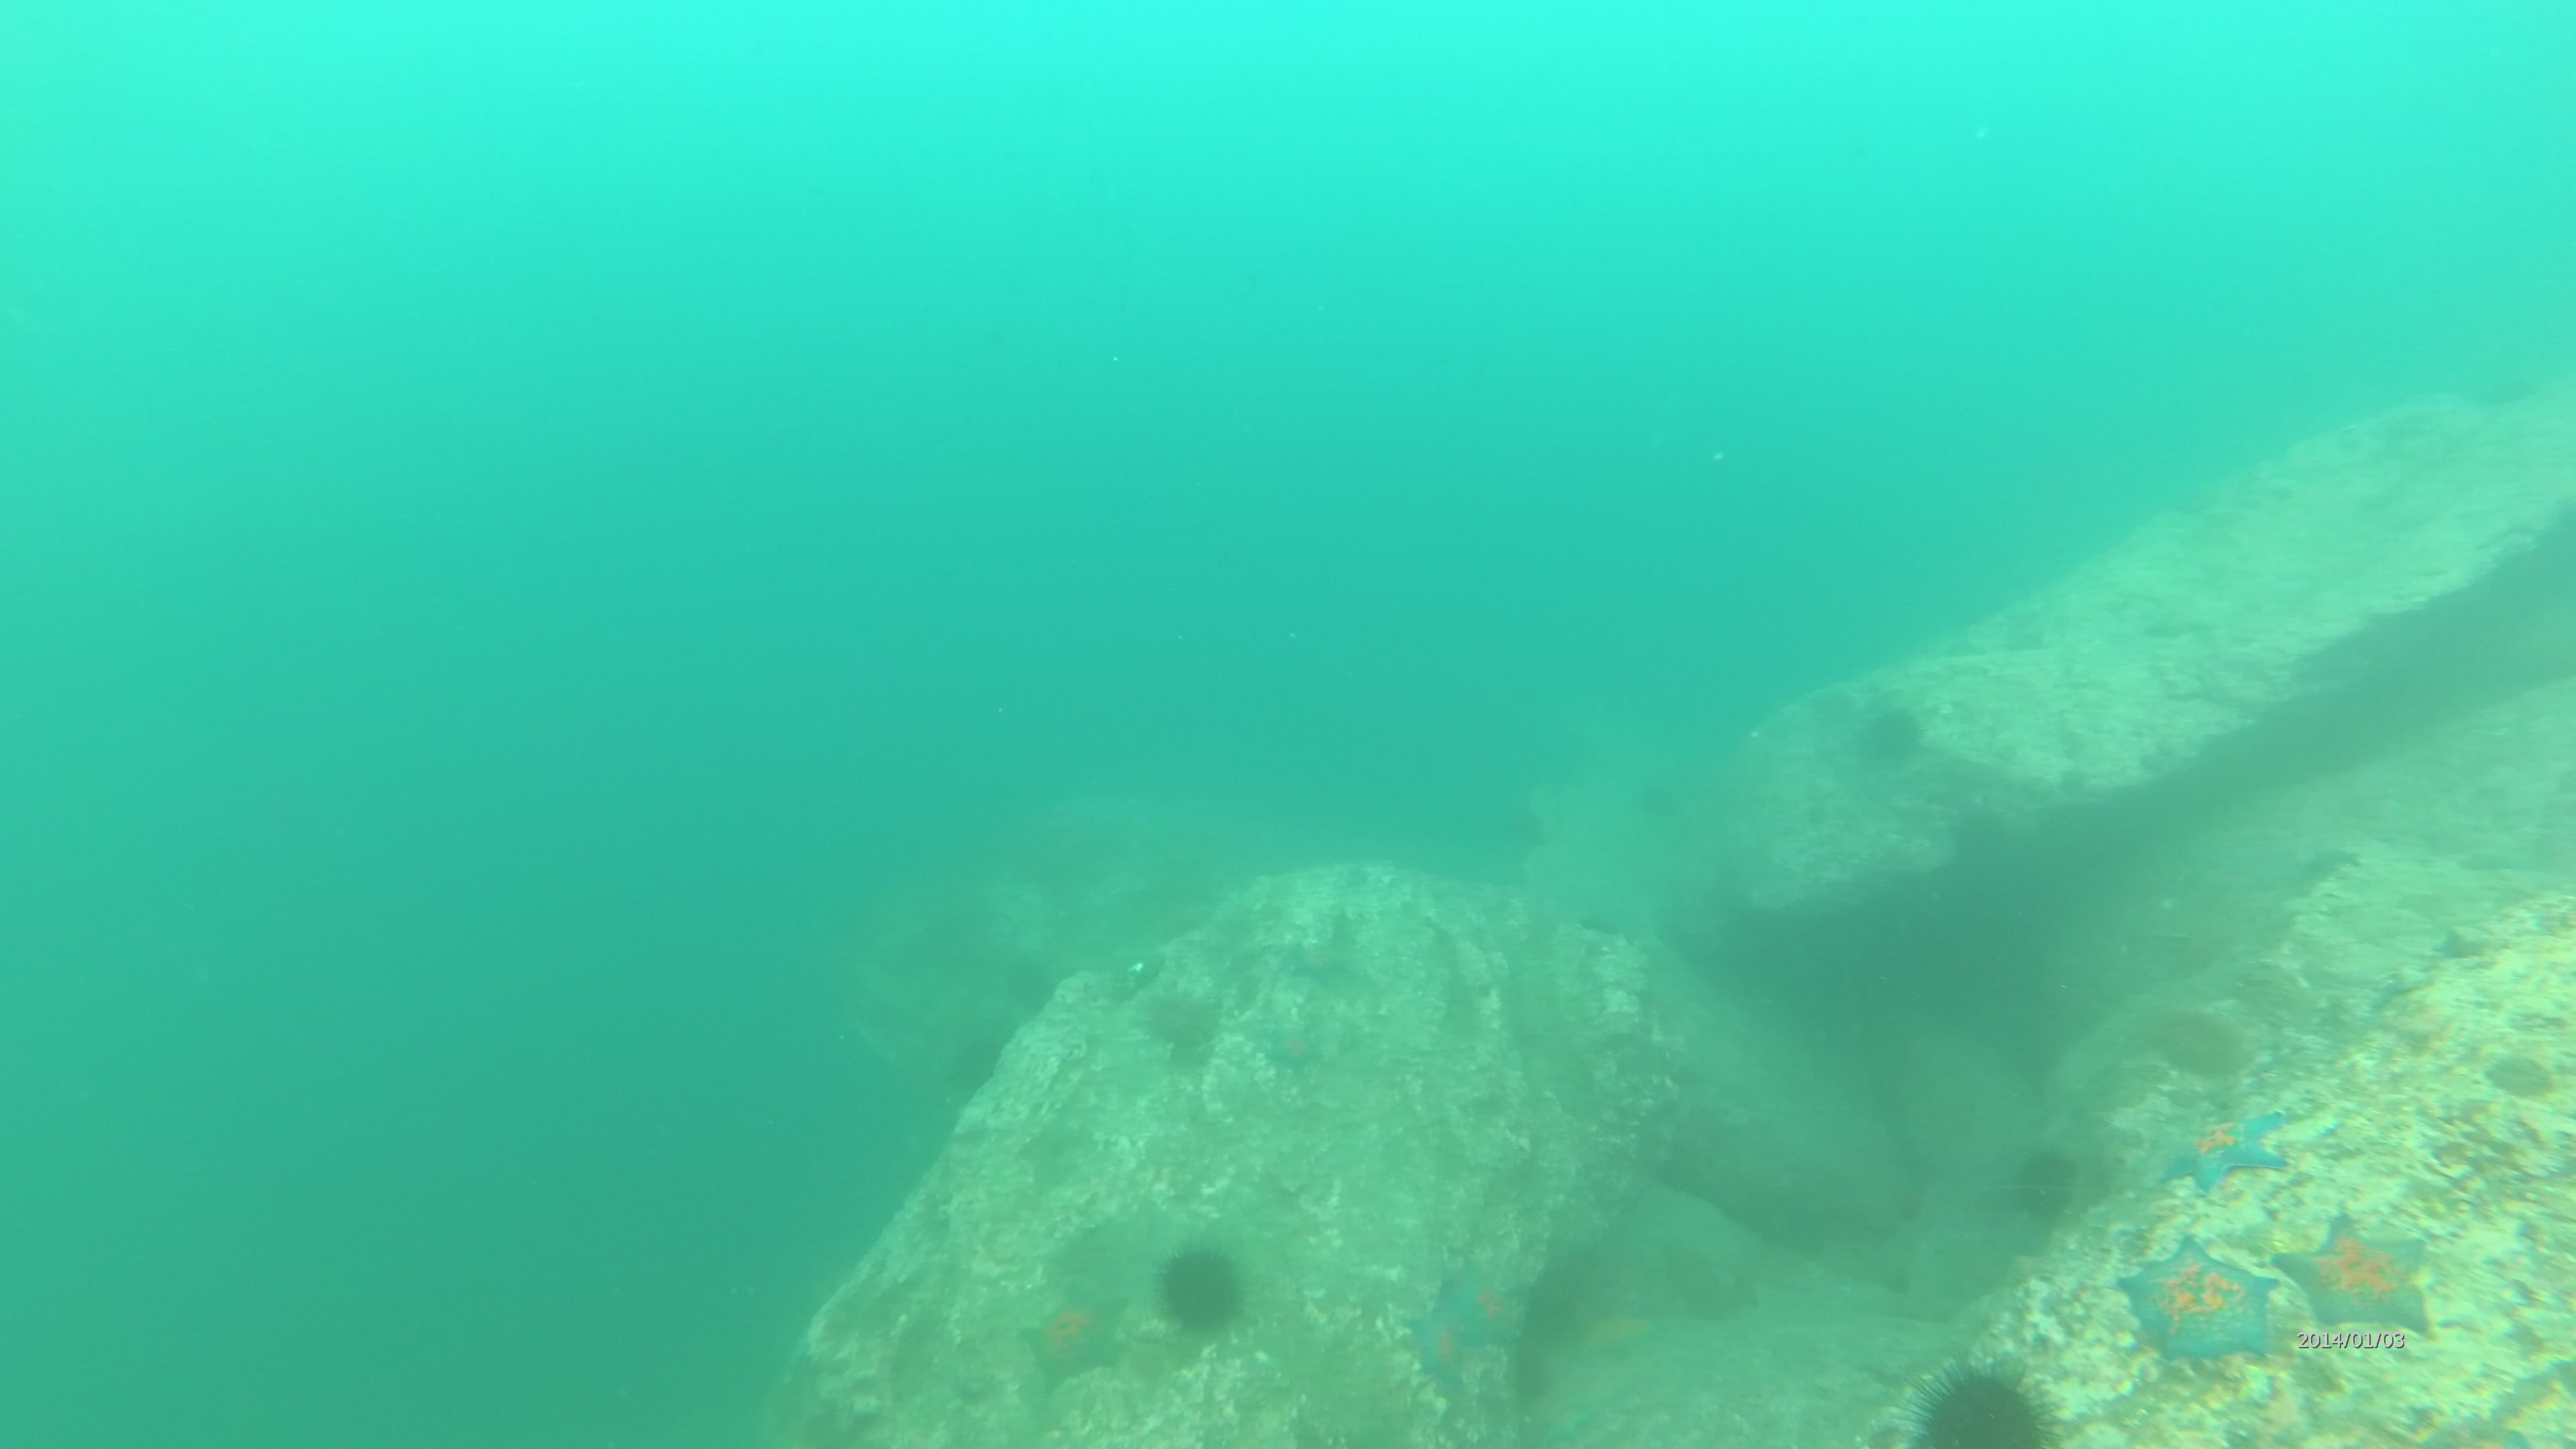echinus: (1898, 1350, 2066, 1449), (1154, 1244, 1251, 1339), (2146, 1005, 2258, 1086), (2006, 1143, 2075, 1217), (1138, 994, 1221, 1054), (1854, 702, 1923, 773)
starfish: (2104, 1230, 2289, 1371), (2289, 1205, 2449, 1343), (1010, 1292, 1139, 1391), (2155, 1106, 2286, 1191), (1398, 1304, 1472, 1385), (1575, 1307, 1665, 1364), (1445, 1270, 1506, 1350), (1265, 1021, 1311, 1069)
